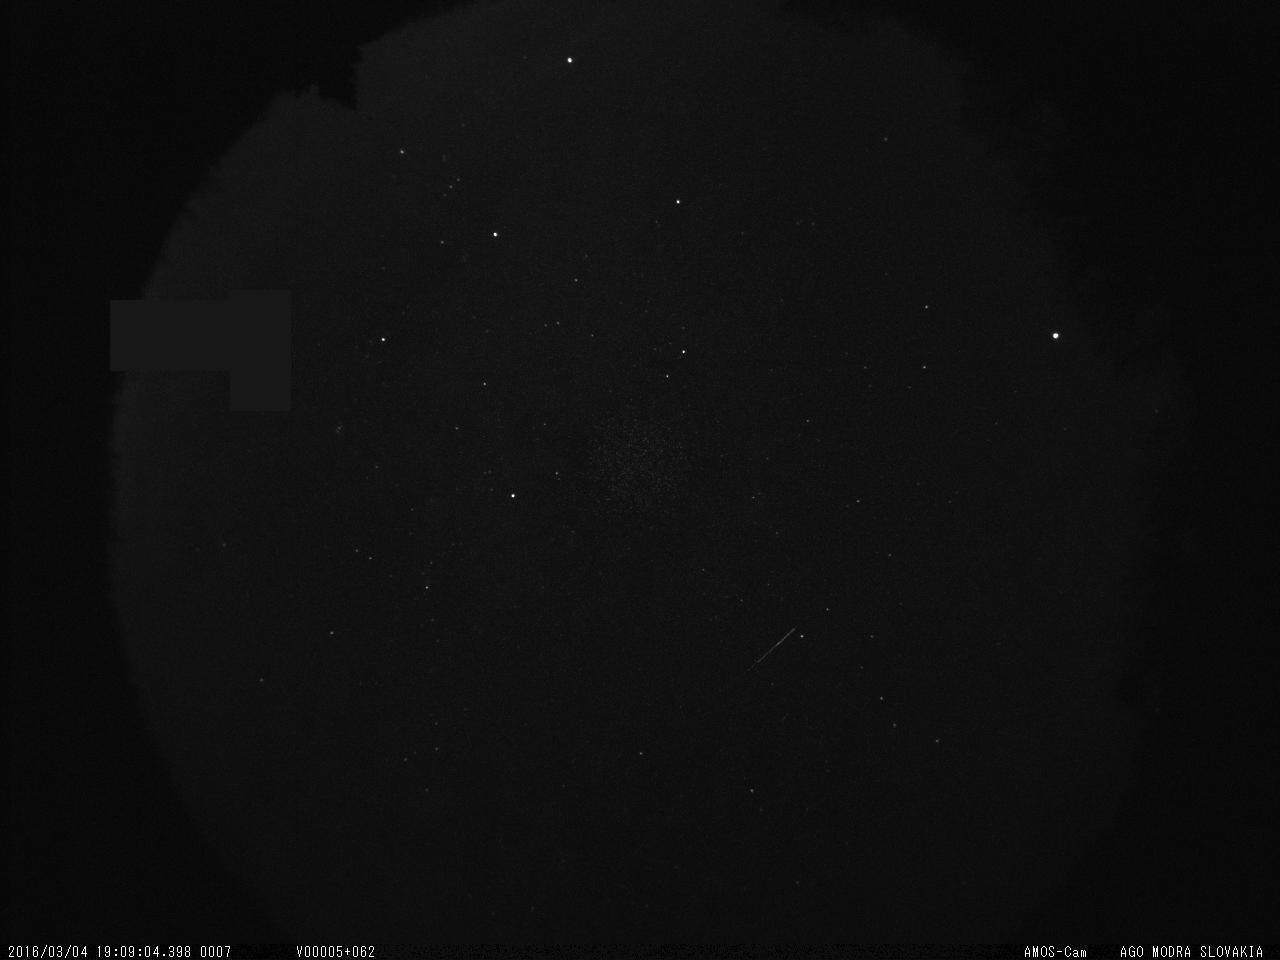Meteor: (748, 614, 804, 681)
